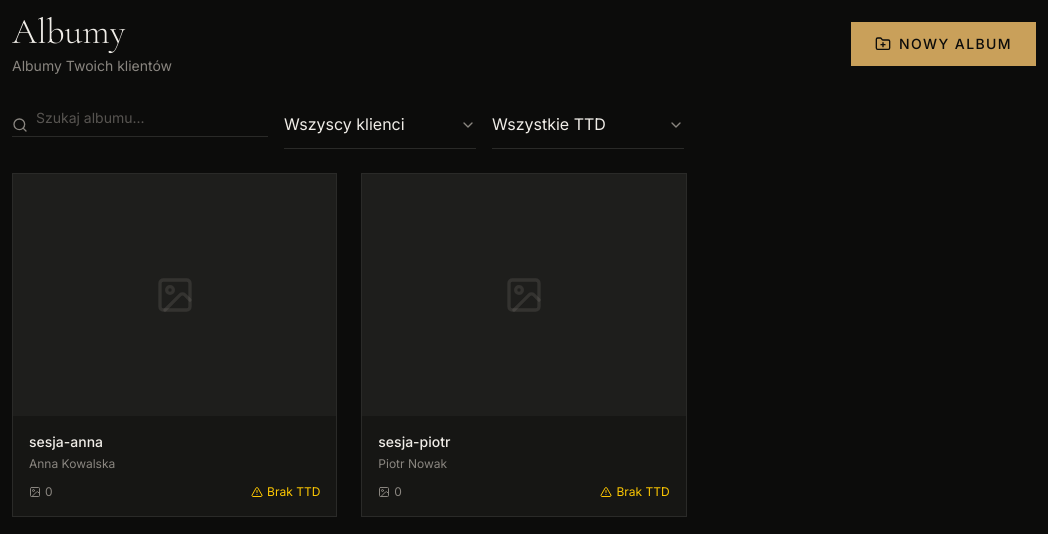
Test case: PhotographerAlbums › Filtering by client uses the client id, so two clients with similar album names never mix
Expected: the heading "sesja-anna" is shown, x1=29 y1=434 x2=103 y2=450
Select "Piotr Nowak" in the 1st dropdown at (380, 124), box x1=284 y1=100 x2=476 y2=149
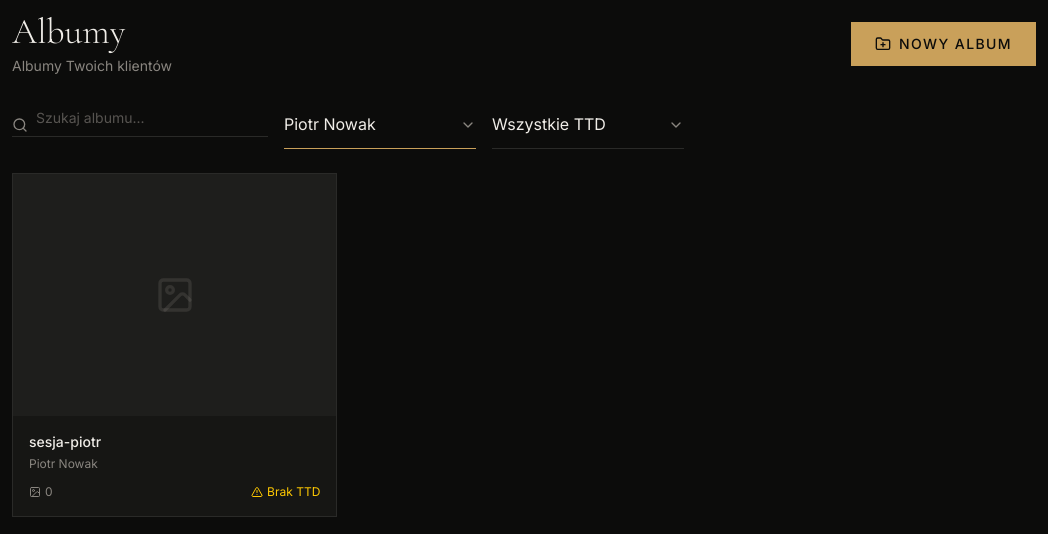
Expected: the heading "sesja-piotr" is shown, x1=29 y1=434 x2=101 y2=450
Expected: the link "sesja-anna" is gone
